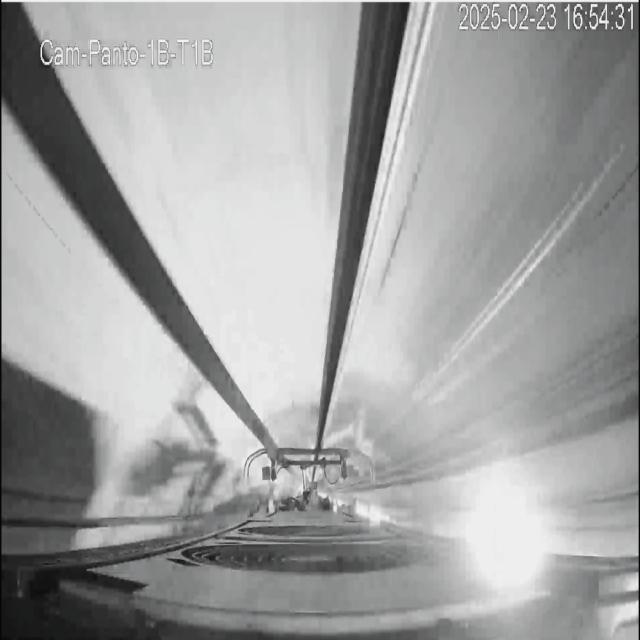Camera Stamp: (35, 29, 218, 70)
Date Stamp: (457, 3, 633, 33)
No - Spark: (445, 452, 565, 608), (245, 442, 370, 511)
